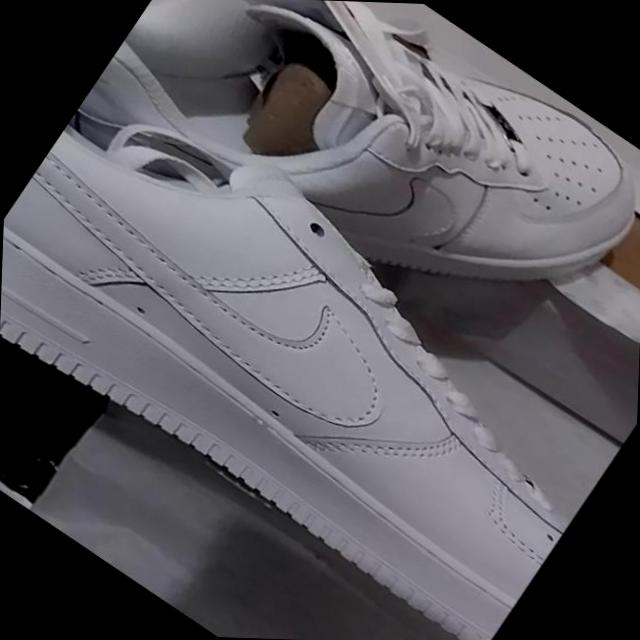nike_fake_airforce: (0, 61, 640, 640), (89, 0, 640, 377)
